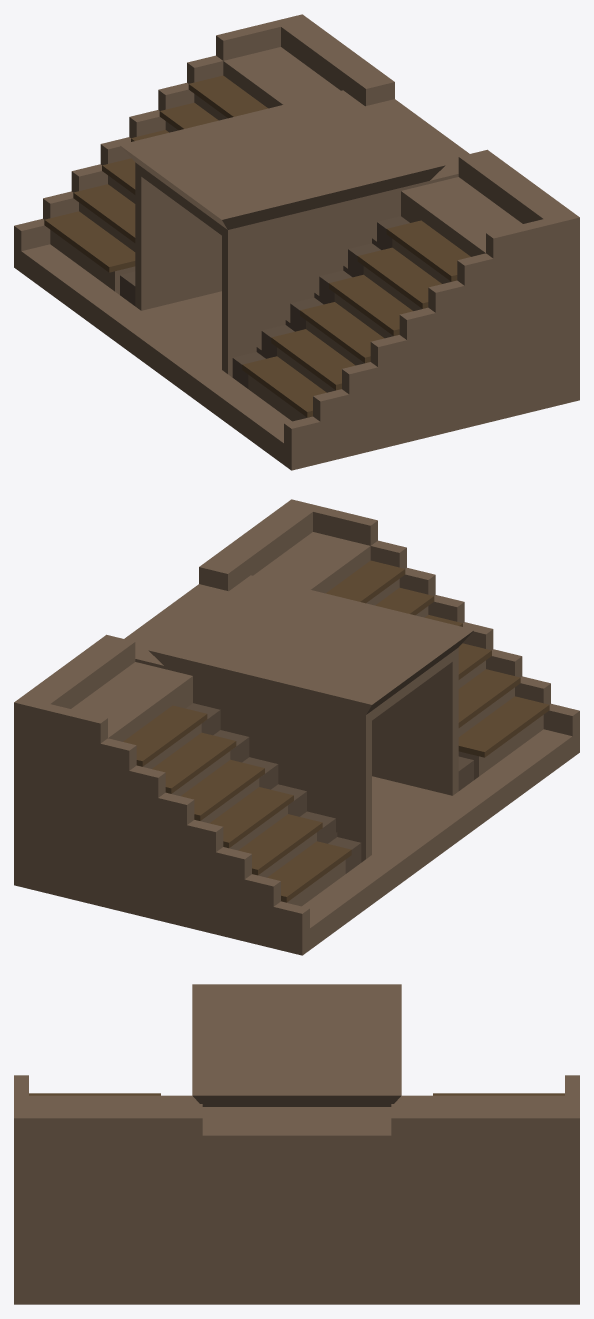
Rendered from tribune.fbx.
3 views of the same model, one above another, from view 1: azimuth 30°, elevation 25°; view 2: azimuth 150°, elevation 25°; view 3: azimuth 270°, elevation 25° (orthographic).
Visible parts, largest first — view 1: Cube.004; view 2: Cube.004; view 3: Cube.004.
Boxes of the visible parts, x1=… form: Cube.004: x1=14, y1=14, x2=579, y2=470; Cube.004: x1=14, y1=499, x2=579, y2=955; Cube.004: x1=14, y1=984, x2=579, y2=1304.
Size of the model in its own units: 1475 by 894 by 2459.
